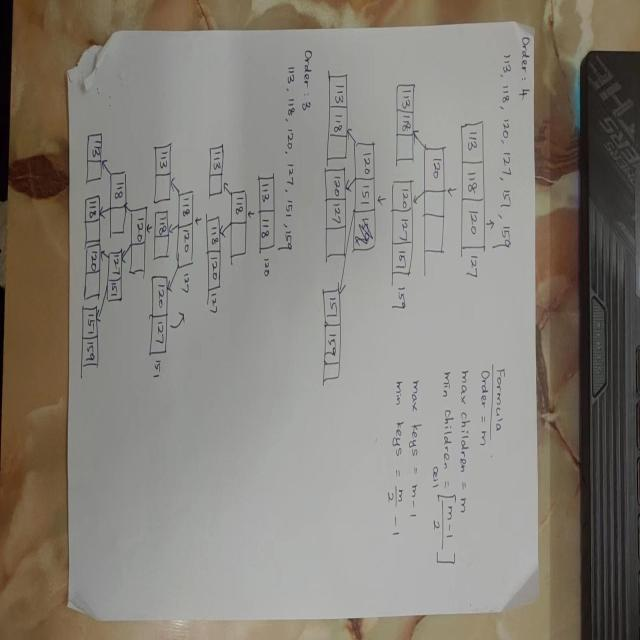paper: (68, 27, 540, 614)
